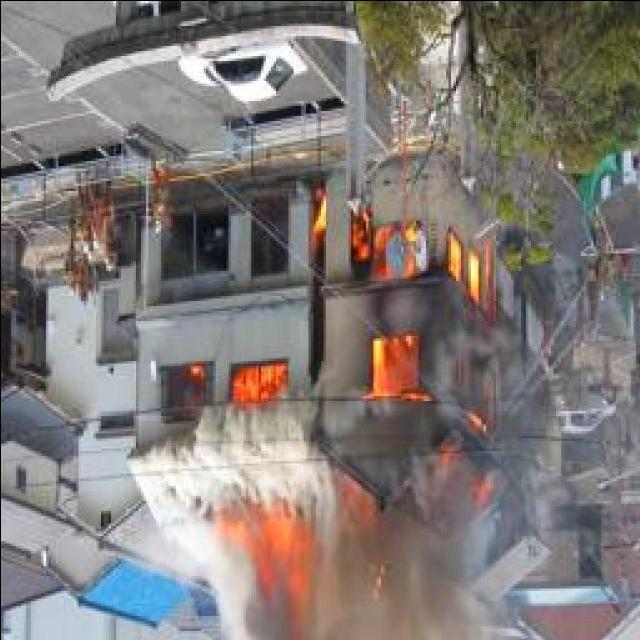Fire: (306, 193, 504, 485), (215, 498, 318, 620), (184, 357, 290, 404)
